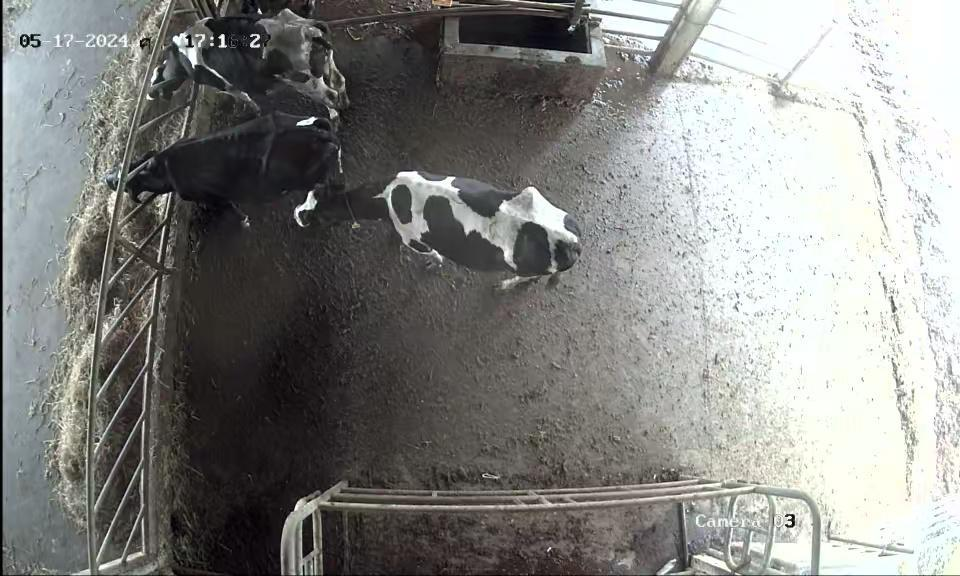eat: (119, 37, 220, 102), (99, 143, 188, 210)
stand: (274, 168, 592, 298)
